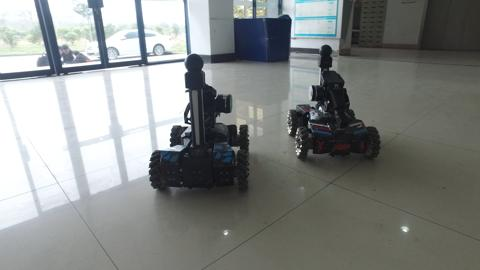car: (84, 24, 182, 62)
chariot: (152, 50, 255, 203), (286, 42, 387, 167)
